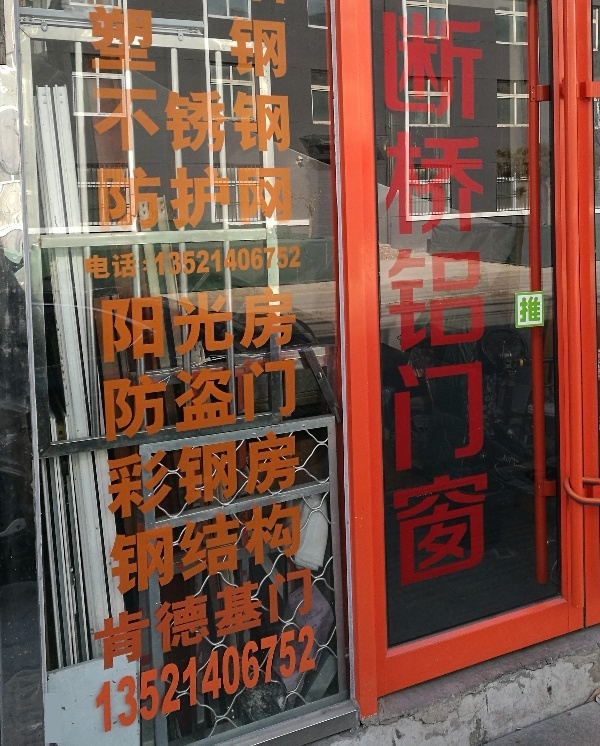text: (385, 9, 400, 593), (401, 9, 416, 593), (417, 9, 432, 593), (433, 9, 448, 593), (449, 9, 464, 593), (465, 9, 480, 593), (481, 9, 492, 593), (379, 9, 384, 593), (97, 562, 112, 674), (113, 562, 128, 674), (129, 562, 144, 674), (145, 562, 160, 674), (161, 562, 176, 674), (177, 562, 192, 674), (193, 562, 208, 674), (209, 562, 224, 674), (225, 562, 240, 674), (241, 562, 256, 674), (257, 562, 272, 674), (273, 562, 288, 674), (289, 562, 304, 674), (305, 562, 320, 674), (97, 624, 112, 735), (113, 624, 128, 735), (129, 624, 144, 735), (145, 624, 160, 735), (161, 624, 176, 735), (177, 624, 192, 735), (193, 624, 208, 735), (209, 624, 224, 735), (225, 624, 240, 735), (241, 624, 256, 735), (257, 624, 272, 735), (273, 624, 288, 735), (289, 624, 304, 735), (305, 624, 320, 735), (113, 495, 128, 598), (129, 495, 144, 598), (145, 495, 160, 598), (161, 495, 176, 598), (177, 495, 192, 598), (193, 495, 208, 598), (209, 495, 224, 598), (225, 495, 240, 598), (241, 495, 256, 598), (257, 495, 272, 598), (273, 495, 288, 598), (289, 495, 304, 598), (113, 424, 128, 523), (129, 424, 144, 523), (145, 424, 160, 523), (161, 424, 176, 523), (177, 424, 192, 523), (193, 424, 208, 523), (209, 424, 224, 523), (225, 424, 240, 523), (241, 424, 256, 523), (257, 424, 272, 523), (273, 424, 288, 523), (289, 424, 304, 523), (113, 355, 128, 444), (129, 355, 144, 444), (145, 355, 160, 444), (161, 355, 176, 444), (177, 355, 192, 444), (193, 355, 208, 444), (209, 355, 224, 444), (225, 355, 240, 444), (241, 355, 256, 444), (257, 355, 272, 444), (273, 355, 288, 444), (99, 424, 112, 523), (85, 562, 96, 674), (97, 5, 112, 84), (113, 5, 128, 84), (129, 5, 144, 84), (145, 5, 160, 84), (161, 5, 176, 84), (177, 5, 192, 84), (193, 5, 208, 84), (209, 5, 224, 84), (225, 5, 240, 84), (241, 5, 256, 84), (257, 5, 272, 84), (273, 5, 288, 84), (113, 286, 128, 364), (129, 286, 144, 364), (145, 286, 160, 364), (161, 286, 176, 364), (177, 286, 192, 364), (193, 286, 208, 364), (209, 286, 224, 364), (225, 286, 240, 364), (241, 286, 256, 364), (257, 286, 272, 364), (273, 286, 288, 364), (99, 355, 112, 444), (289, 355, 302, 444), (98, 286, 112, 364), (97, 86, 112, 152), (113, 86, 128, 152), (129, 86, 144, 152), (145, 86, 160, 152), (161, 86, 176, 152), (177, 86, 192, 152), (193, 86, 208, 152), (209, 86, 224, 152), (225, 86, 240, 152), (241, 86, 256, 152), (257, 86, 272, 152), (273, 86, 288, 152), (97, 165, 112, 231), (113, 165, 128, 231), (129, 165, 144, 231), (145, 165, 160, 231), (161, 165, 176, 231), (177, 165, 192, 231), (193, 165, 208, 231), (209, 165, 224, 231), (225, 165, 240, 231), (241, 165, 256, 231), (257, 165, 272, 231), (273, 165, 288, 231), (103, 495, 112, 598), (88, 624, 96, 735), (305, 495, 313, 598), (289, 286, 299, 364), (87, 5, 96, 84), (97, 242, 112, 283), (113, 242, 128, 283), (129, 242, 144, 283), (145, 242, 160, 283), (161, 242, 176, 283), (177, 242, 192, 283), (193, 242, 208, 283), (209, 242, 224, 283), (225, 242, 240, 283), (241, 242, 256, 283), (257, 242, 272, 283), (273, 242, 288, 283), (289, 242, 303, 283), (289, 165, 297, 231), (289, 86, 296, 152), (85, 242, 96, 283), (321, 562, 325, 674), (529, 295, 544, 324), (91, 86, 96, 152), (289, 5, 292, 84), (520, 295, 528, 324), (321, 624, 323, 735)
